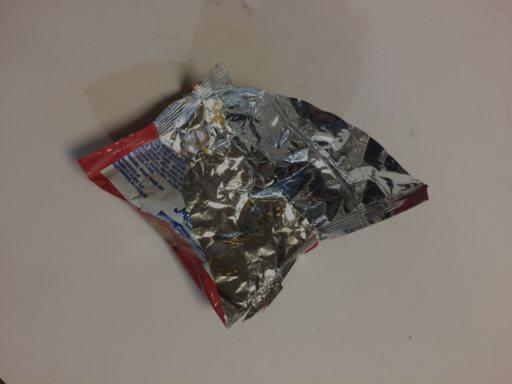trash: (77, 63, 432, 335)
